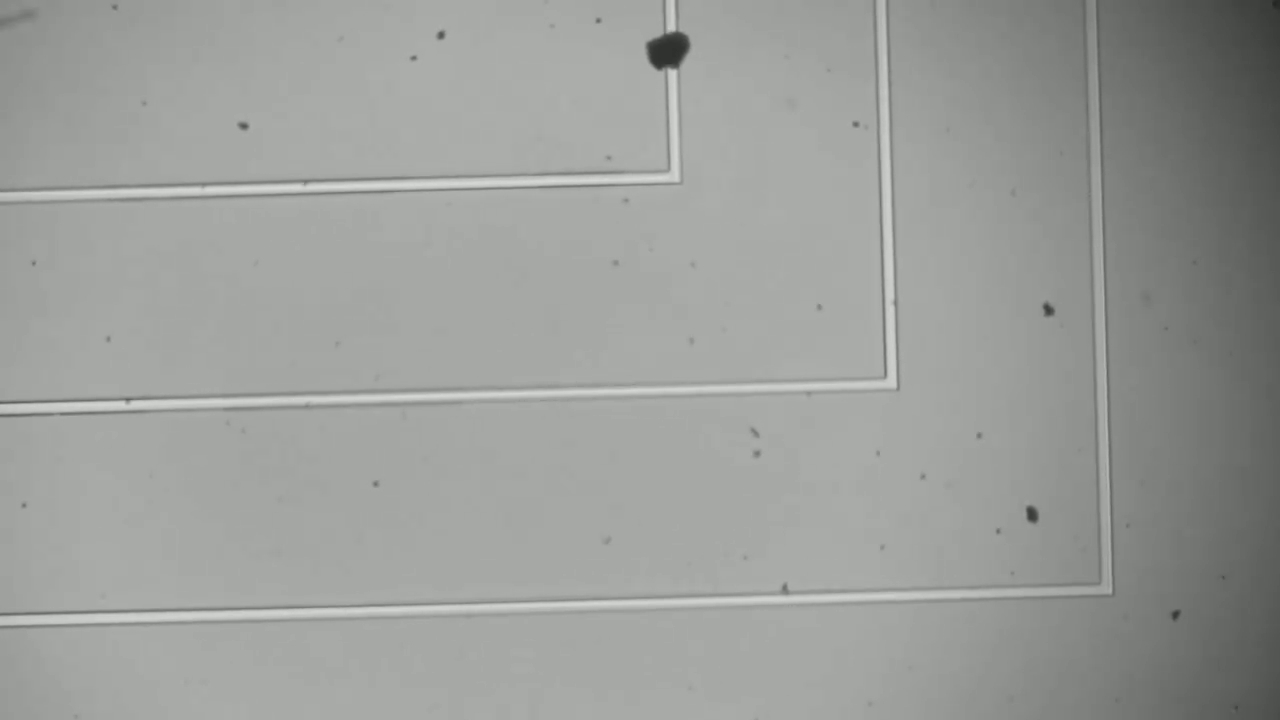stains_enbedded: (635, 25, 699, 78)
